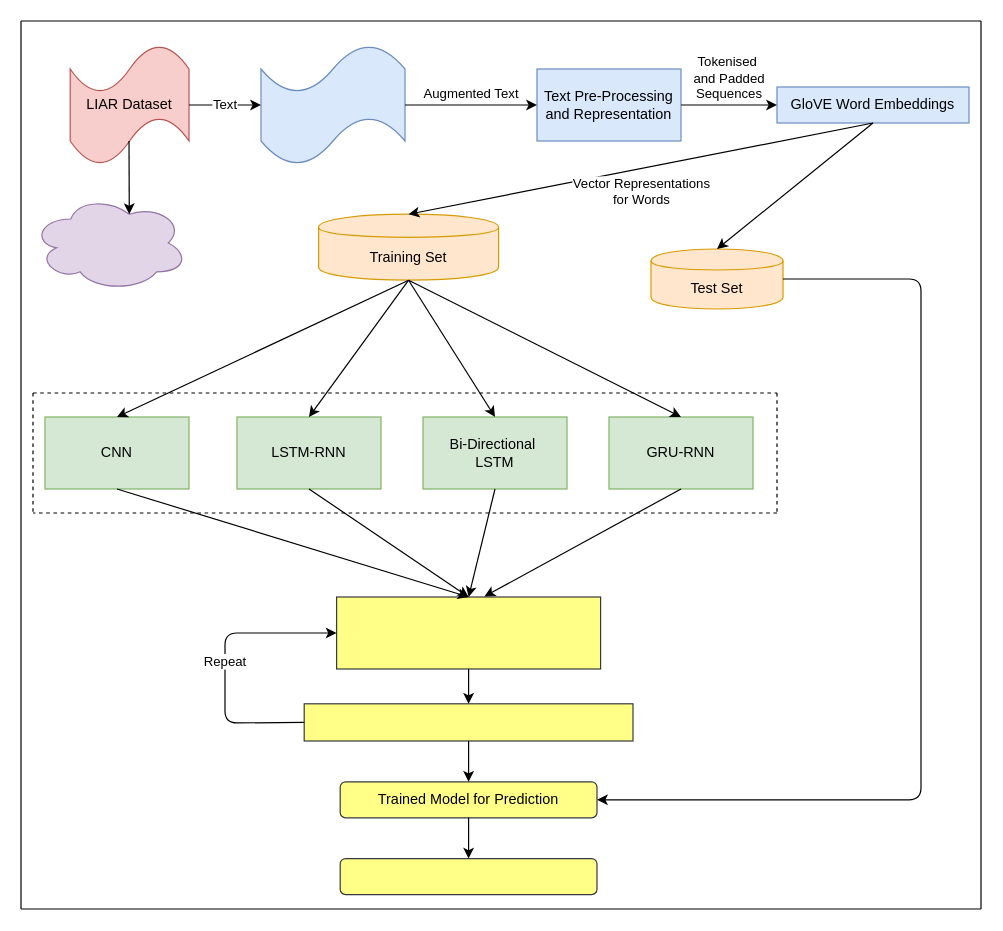
The diagram is 1003 pixels wide and 931 high, and some of its shapes have lost their labels. Here are the shapes that lost their labels. From the top down, the centre of each, then its label:
pixel 332 104: Data Augmentation
pixel 109 242: Data Exploration
pixel 468 632: Train the Models
pixel 468 722: Tune Hyper-Parameters using Validation Data
pixel 468 876: Predicted Label and Model Accuracy
